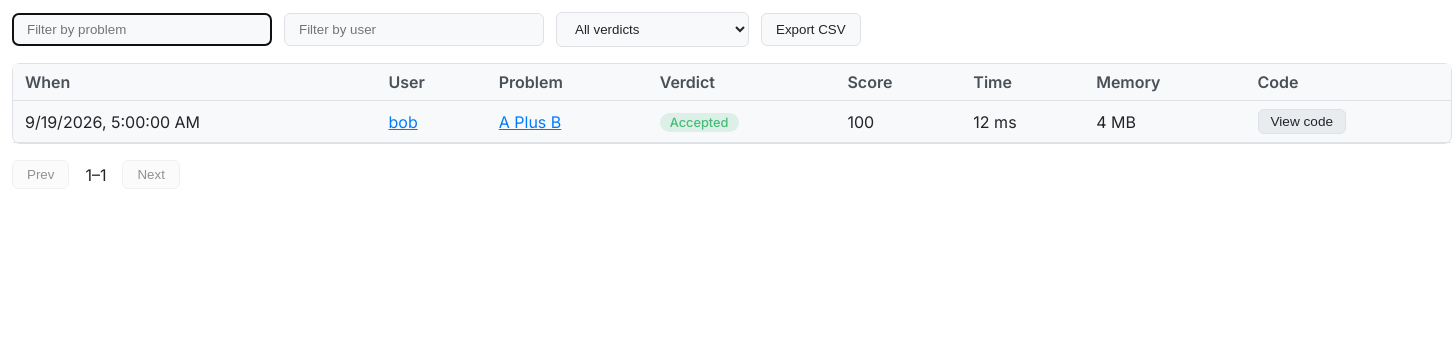
Test: SubmissionsTab › keeps the same search input mounted while a selected-filter request fails
The image size is (1452, 338).
Expected: the button "A Plus B" is shown, [499, 112, 561, 132]
Step 1. Type "plus" into the field labelled "Filter by problem" → {"x": 142, "y": 30}, box [12, 13, 272, 46]
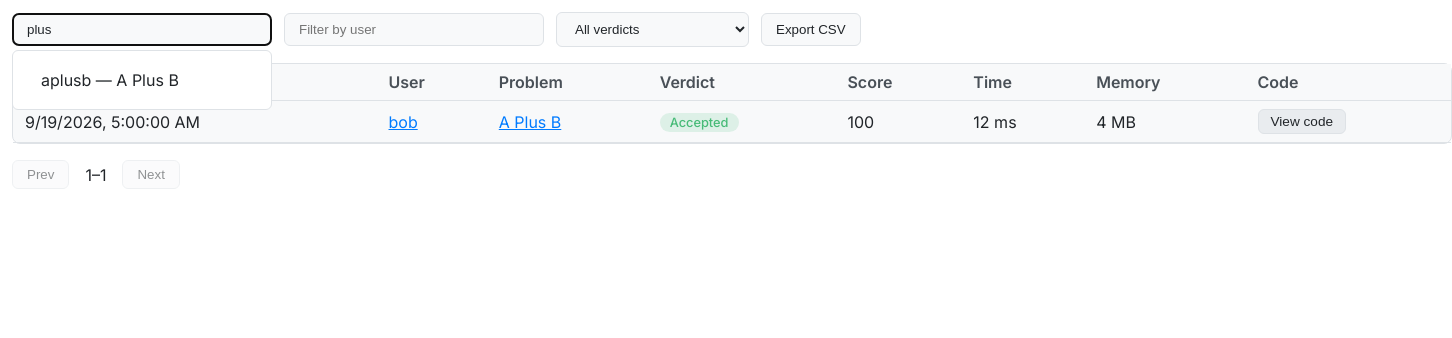
Step 2. Click the button "aplusb — A Plus B" → {"x": 142, "y": 80}, box [27, 61, 257, 100]
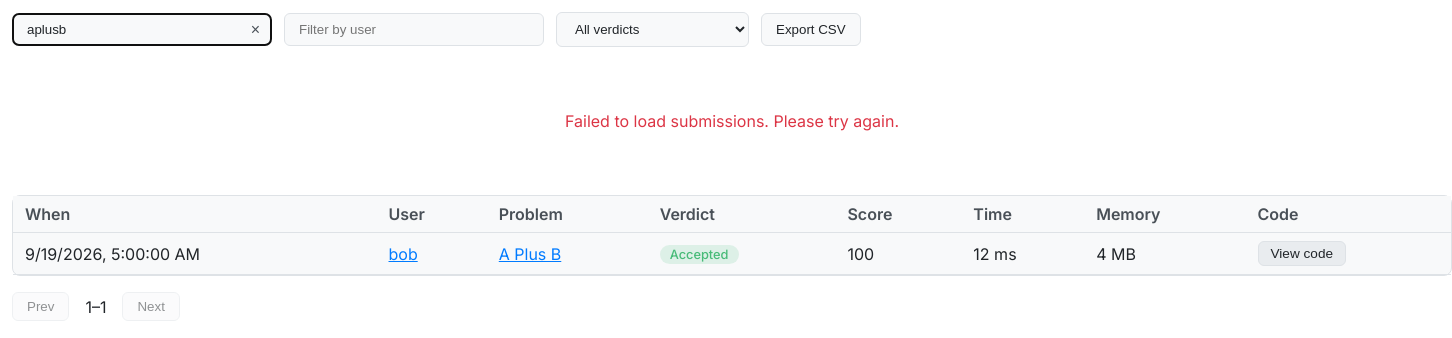
Expected: the message shows "Failed to load submissions", [565, 111, 899, 131]
